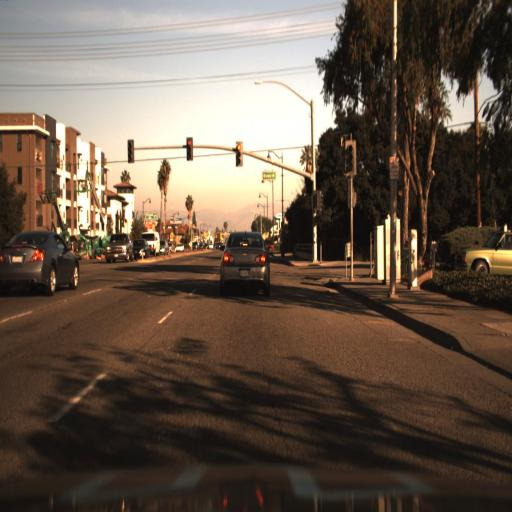car: (0, 220, 82, 301), (217, 227, 273, 294), (458, 225, 512, 272), (103, 235, 133, 262), (147, 230, 161, 258), (133, 237, 151, 257)
trafficLight: (231, 138, 244, 171), (344, 140, 354, 176), (309, 190, 318, 212), (312, 190, 319, 210)
trafficLight-Red: (184, 135, 193, 166)
